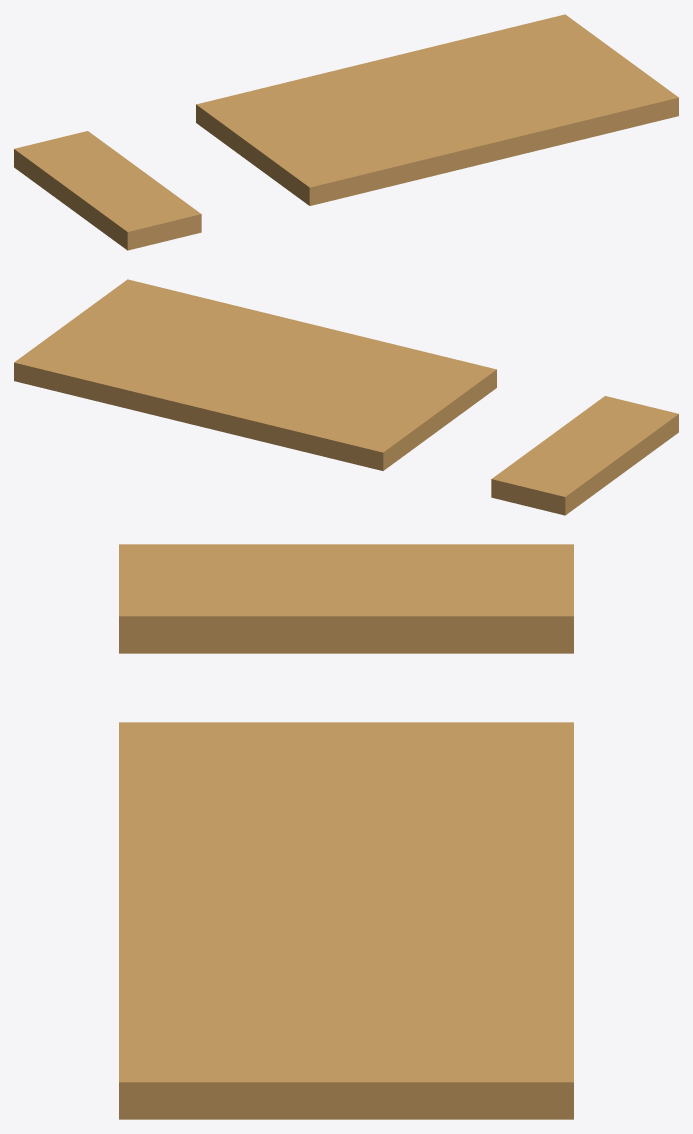
File: STAIR_PORT_START.glb
3 renders of one model, top to bottom at view 1: azimuth 30°, elevation 25°; view 2: azimuth 150°, elevation 25°; view 3: azimuth 270°, elevation 25°, orthographic. The views are drawn at different scales.
Bounding box in the file's own units: 5.6 × 0.18 × 2.
